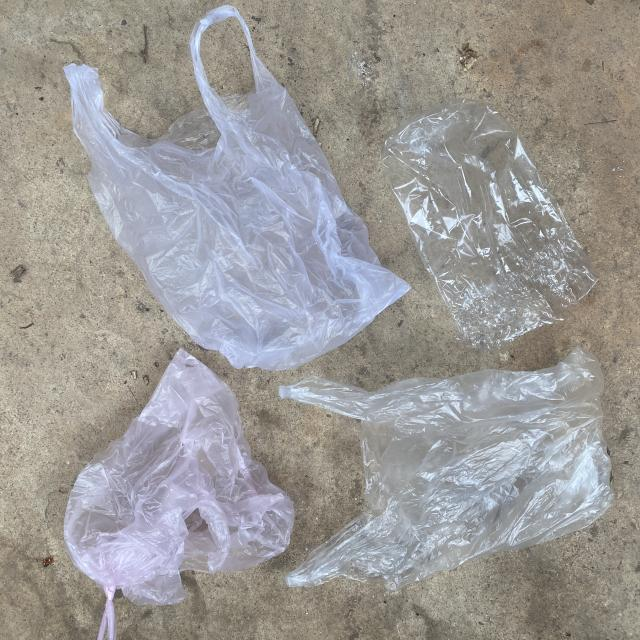Single-layer Plastic: (65, 6, 409, 370), (279, 348, 614, 590), (64, 349, 294, 640), (382, 99, 599, 352)
